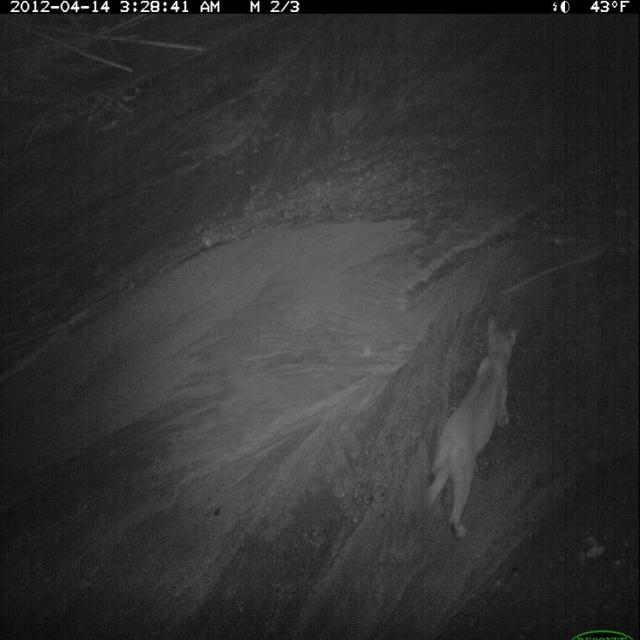bobcat: (422, 310, 523, 539)
